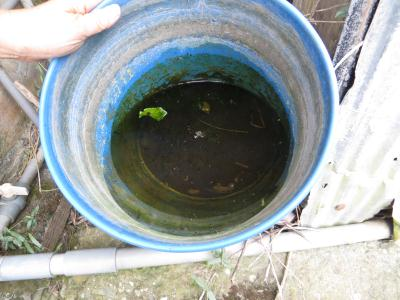bucket: (35, 1, 341, 256)
